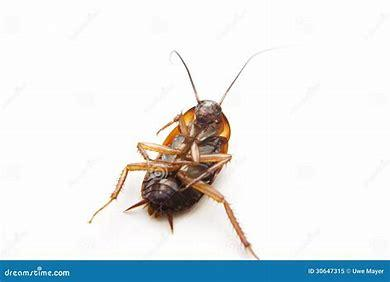cockroach: (90, 32, 277, 255)
